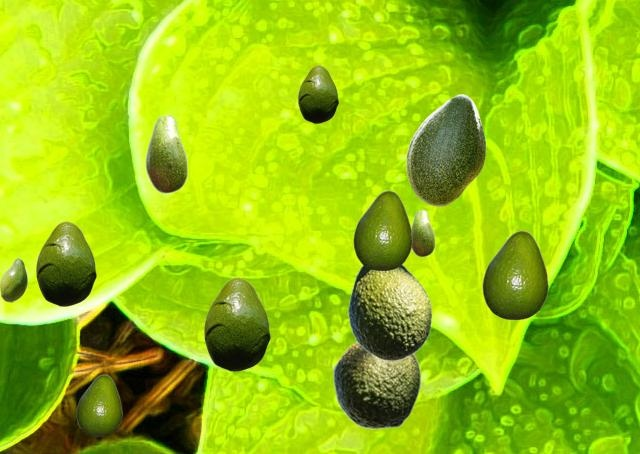avocado: (406, 94, 484, 205), (347, 263, 431, 360), (332, 341, 420, 428), (204, 277, 269, 370), (482, 230, 547, 318), (36, 221, 95, 305), (353, 190, 411, 269), (145, 114, 187, 193), (76, 374, 121, 435), (298, 65, 337, 122), (0, 258, 26, 301), (411, 209, 434, 256)
